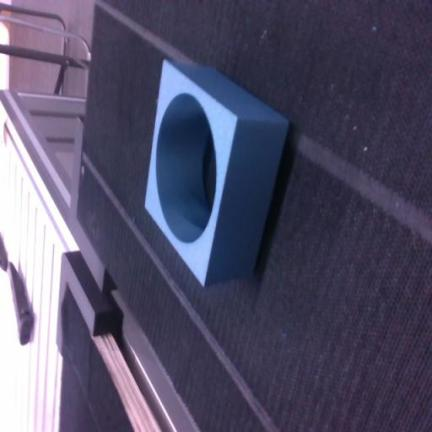square: (145, 60, 288, 285)
